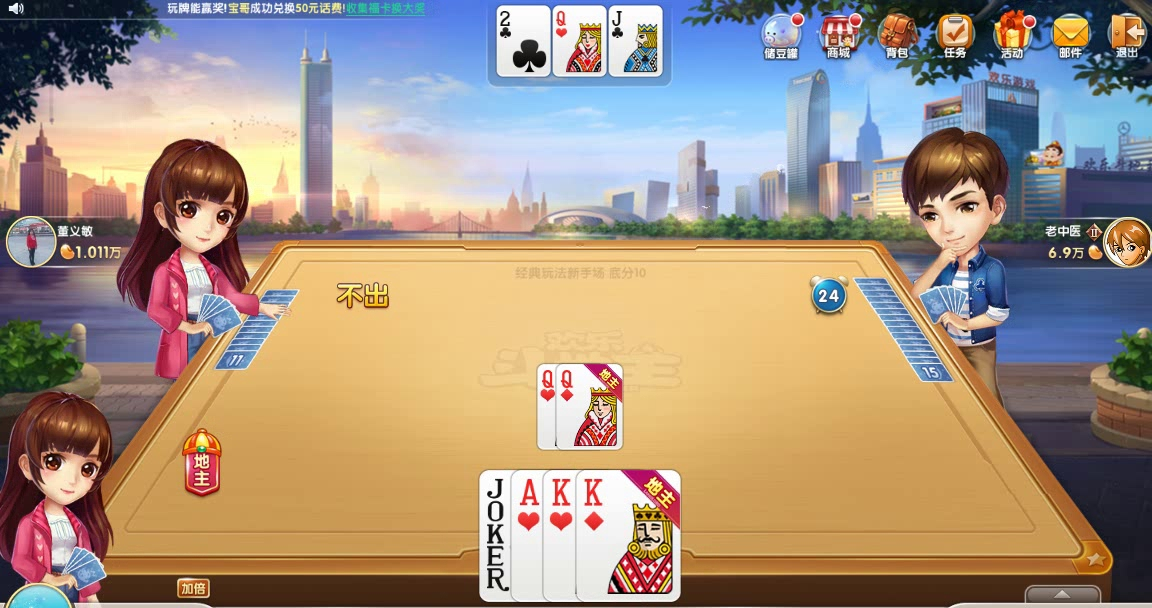11~2: (607, 4, 662, 77)
12~1: (554, 362, 623, 452)
12~3: (535, 362, 604, 452), (551, 4, 606, 77)
13~1: (576, 470, 682, 601)
13~3: (540, 470, 646, 601)
14~3: (508, 470, 614, 601)
15~2: (495, 4, 550, 77)
17~3: (478, 470, 584, 601)
